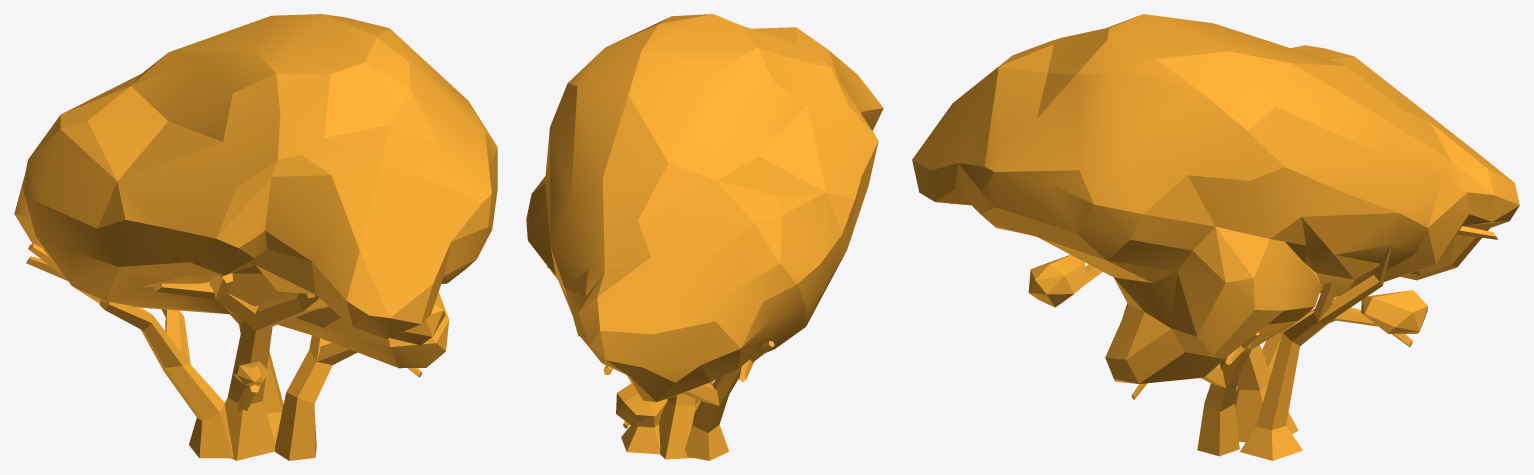
File: SM_Bush_Snow_A.fbx
The picture shows the model from 3 angles, left to right: view 1: azimuth 30°, elevation 25°; view 2: azimuth 150°, elevation 25°; view 3: azimuth 270°, elevation 25°; orthographic projection. The views are drawn at different scales.
Parts seen in each view (by area): view 1: bush-snow-a; view 2: bush-snow-a; view 3: bush-snow-a.
Part boxes in pixels (bbox=[...]): bush-snow-a: bbox=[14, 14, 497, 460]; bush-snow-a: bbox=[526, 14, 883, 460]; bush-snow-a: bbox=[912, 14, 1519, 460].
Bounding box in the file's own units: 1.7 × 1.92 × 2.57.
